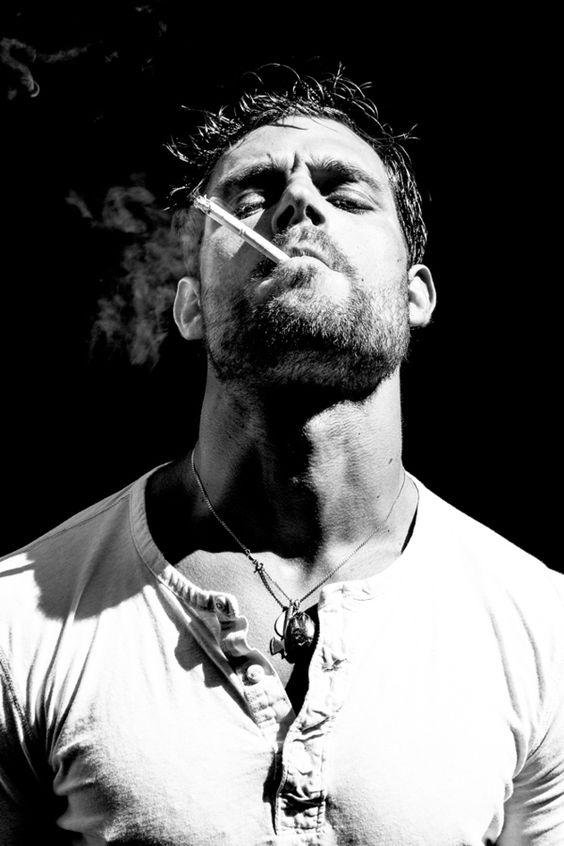cigarette: (193, 196, 290, 265)
